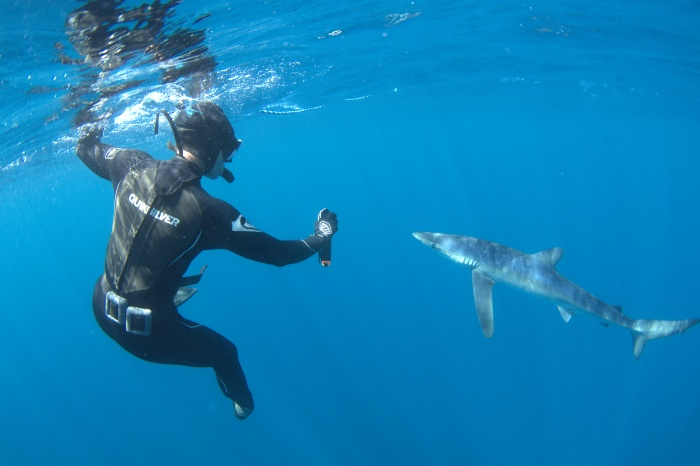Azul: (403, 220, 700, 365)
